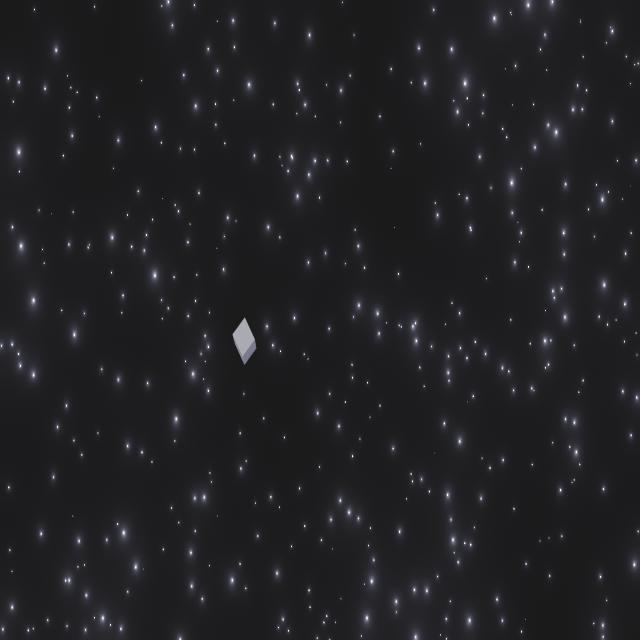large_debris: (233, 314, 256, 364)
